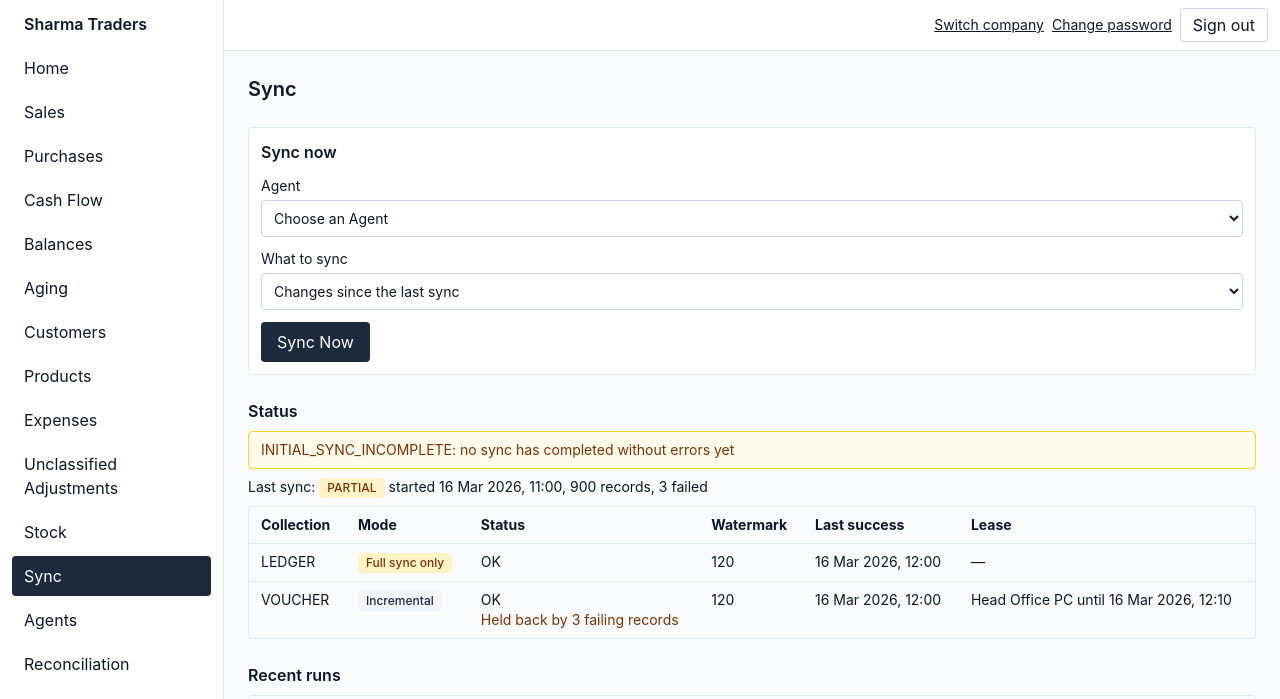
Test: Sync page › does not send Sync Now with two ACTIVE Agents until one is chosen (AC-18 UI)
Click the button "Sync Now". click: (315, 342)
box: [261,322,370,362]
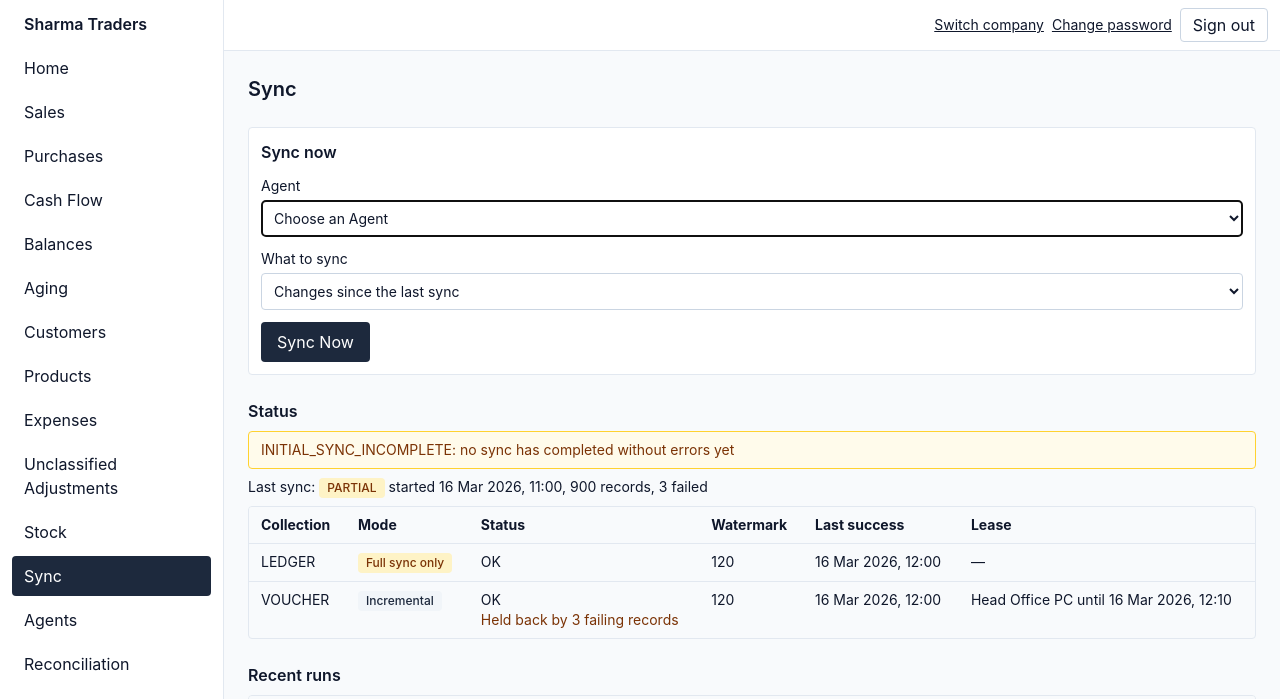
Select "Godown PC (ACTIVE)" in the dropdown labelled "Agent". click: (752, 218)
box: [261,200,1243,237]
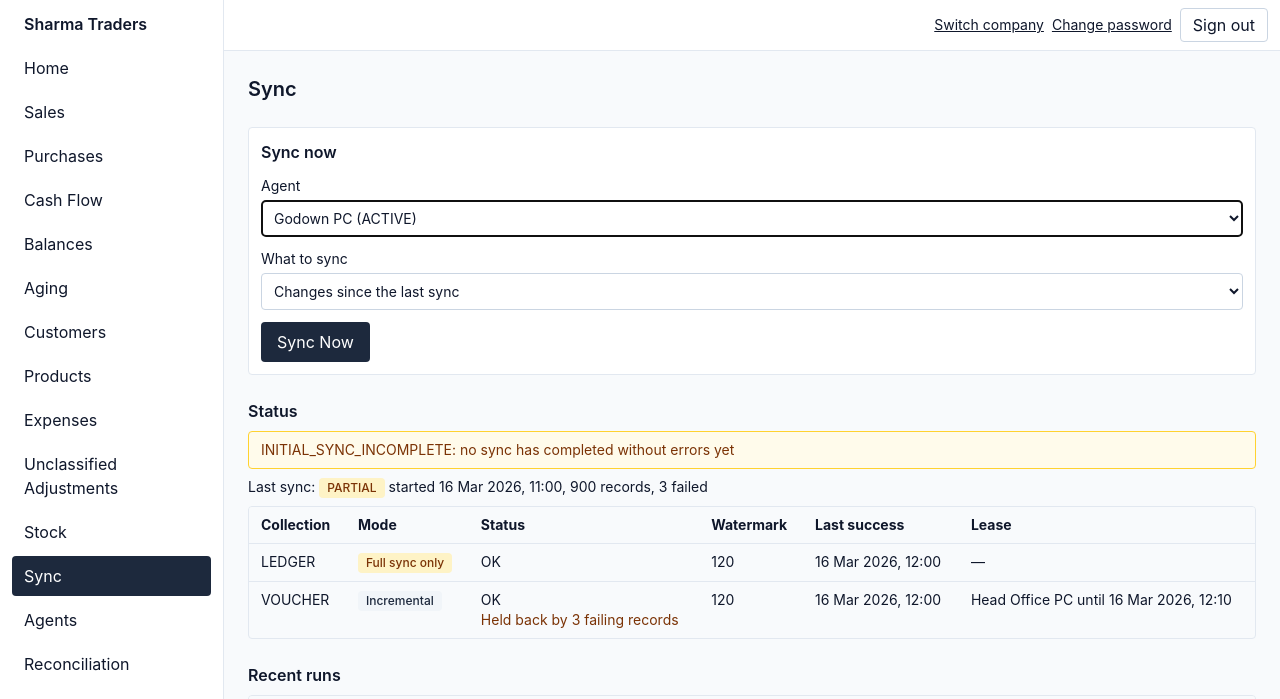
Click the button "Sync Now". click: (315, 342)
box: [261,322,370,362]
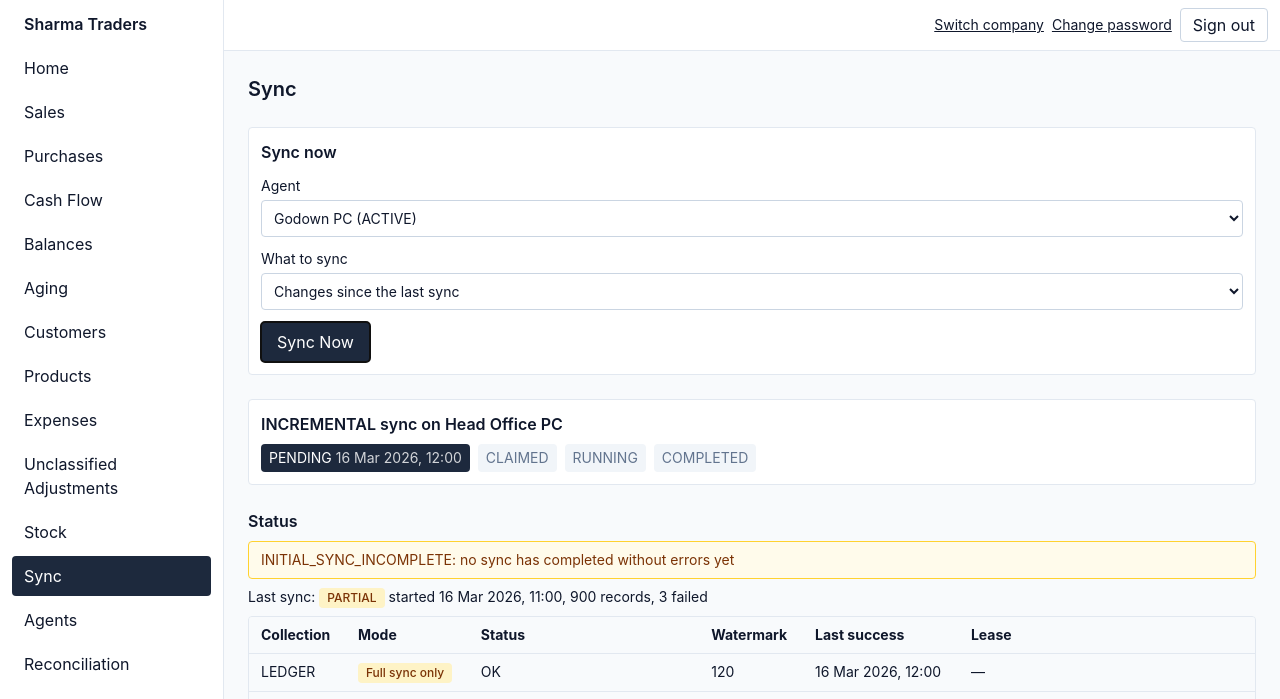
Now the list named "Sync progress" is shown, box [261,444,756,472]
